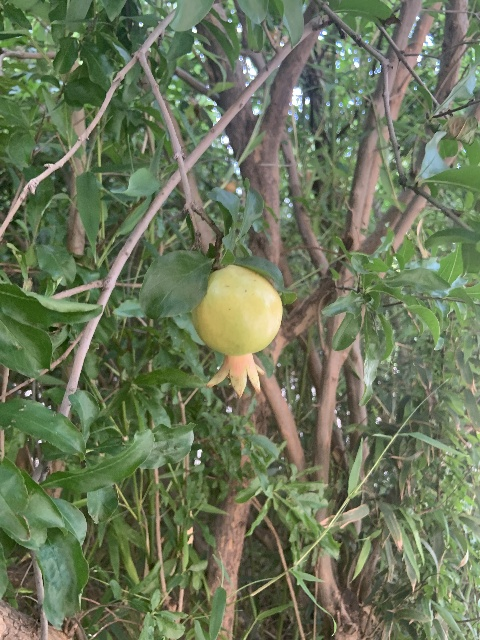mid-growth: (192, 264, 283, 397)
